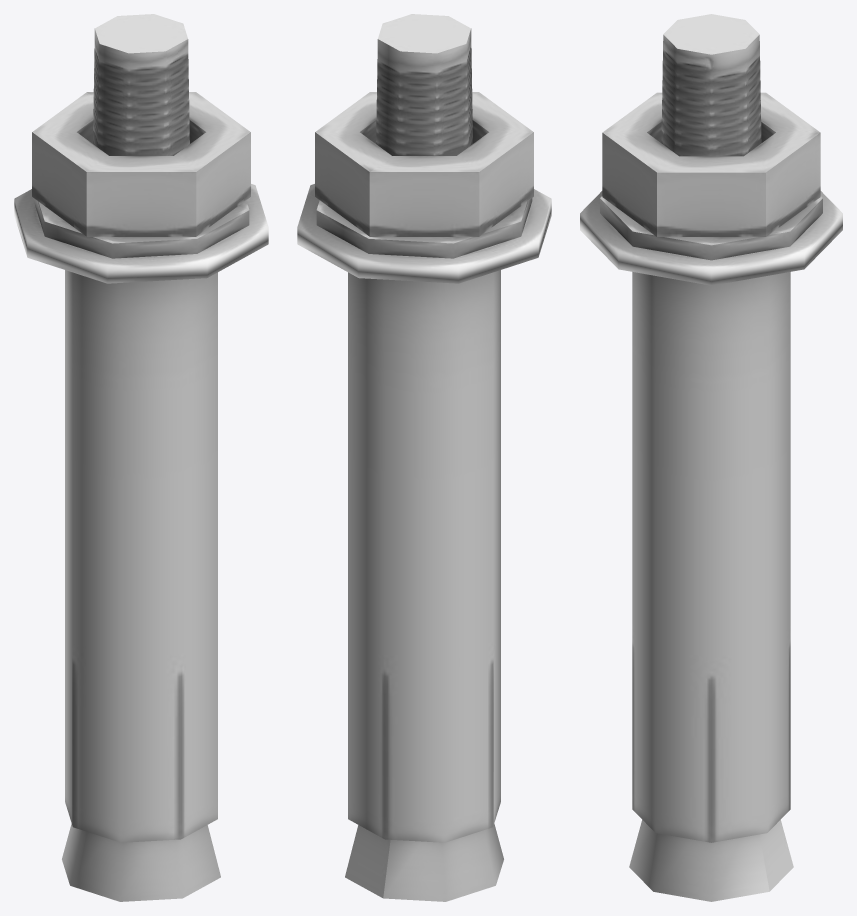
File: PZLS.fbx
3 views of the same model, side by side, from view 1: azimuth 30°, elevation 25°; view 2: azimuth 150°, elevation 25°; view 3: azimuth 270°, elevation 25° (orthographic).
Parts seen in each view (by area): view 1: PZLS:C_LOW_2, PZLS:C_LOW_1, PZLS:pCylinder1, PZLS:B_LOW_2, PZLS:B_LOW_1; view 2: PZLS:C_LOW_2, PZLS:C_LOW_1, PZLS:pCylinder1, PZLS:B_LOW_2, PZLS:B_LOW_1; view 3: PZLS:C_LOW_2, PZLS:C_LOW_1, PZLS:pCylinder1, PZLS:B_LOW_2, PZLS:B_LOW_1.
Boxes of the visible parts, box(x1,y1,x2,y2) form: PZLS:C_LOW_2: box(65, 270, 217, 842); PZLS:C_LOW_1: box(62, 14, 220, 901); PZLS:pCylinder1: box(32, 92, 250, 236); PZLS:B_LOW_2: box(14, 184, 268, 283); PZLS:B_LOW_1: box(33, 198, 249, 258); PZLS:C_LOW_2: box(348, 270, 500, 842); PZLS:C_LOW_1: box(345, 14, 503, 901); PZLS:pCylinder1: box(315, 92, 533, 236); PZLS:B_LOW_2: box(297, 184, 551, 283); PZLS:B_LOW_1: box(316, 198, 532, 258); PZLS:C_LOW_2: box(632, 272, 790, 842); PZLS:C_LOW_1: box(629, 14, 793, 901); PZLS:pCylinder1: box(602, 92, 820, 236); PZLS:B_LOW_2: box(580, 191, 842, 285); PZLS:B_LOW_1: box(600, 196, 822, 260).
Bounding box in the file's own units: 3.28 × 11.47 × 3.28.
Materials: 1 (1 with a texture image).
